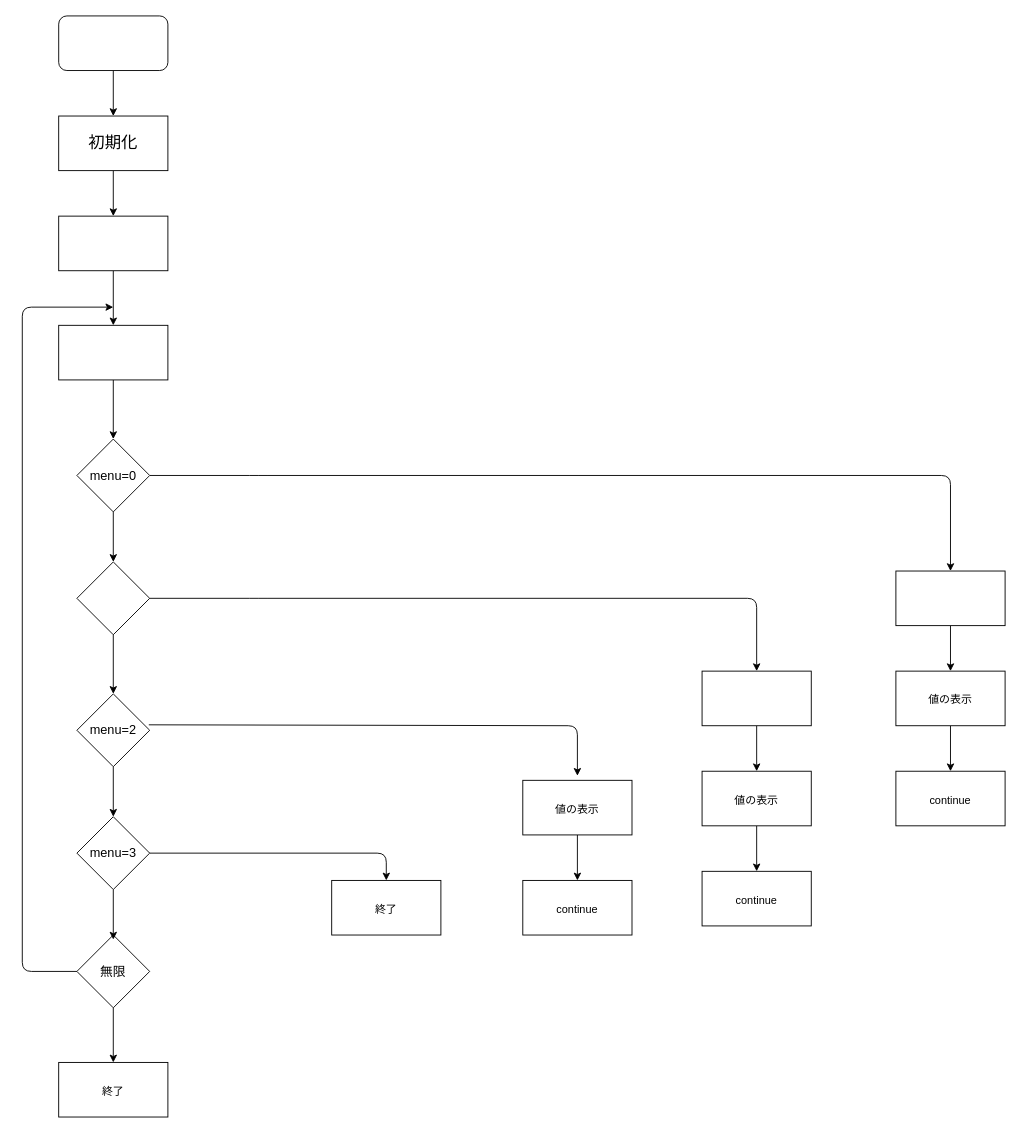
Some shapes in this 1021 by 1133 pixel diagram are drawn without their labels. The centre of each missing label's shape, as x and y in pixels:
menu=1: the point at 113,598
while無限: the point at 113,243
メニューの 選択: the point at 113,352
値を格納: the point at 950,598
削除の実行: the point at 756,698
開始: the point at 113,43
